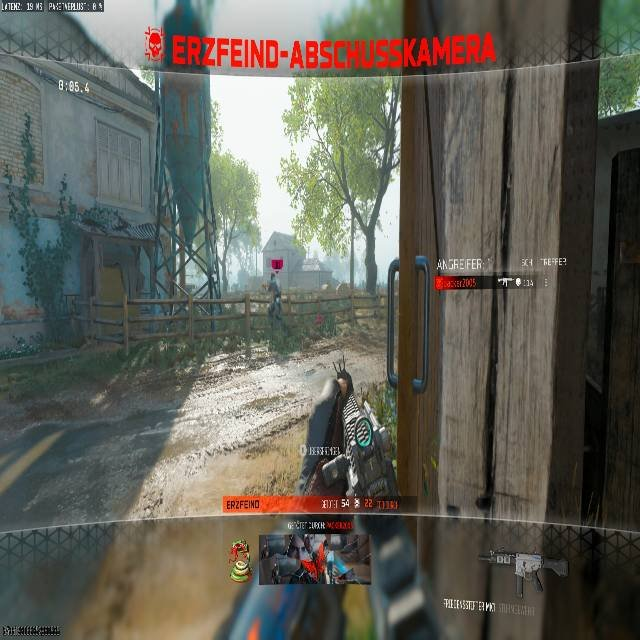player: (265, 276, 282, 325), (267, 269, 281, 300)
